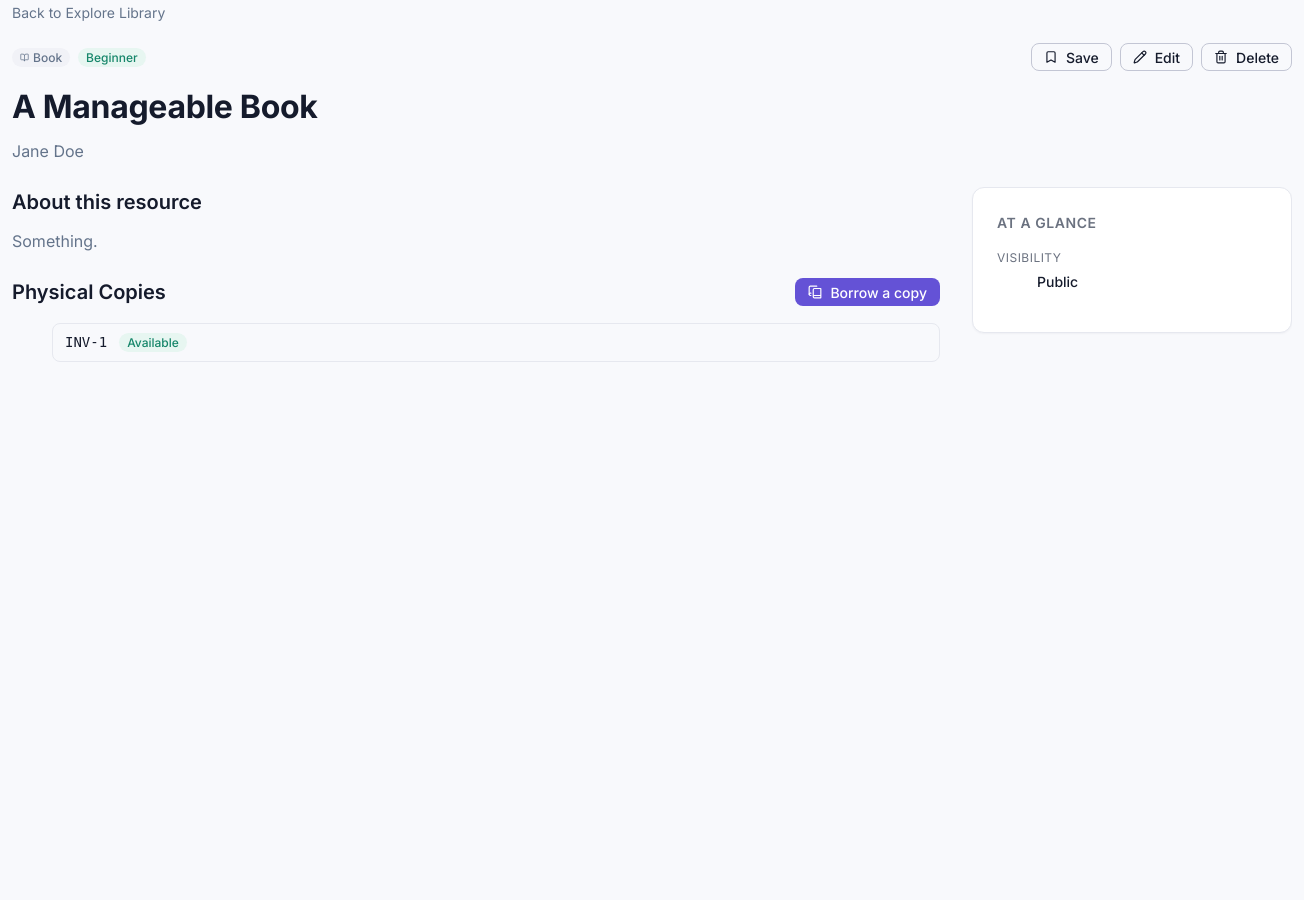
Test: ResourceDetailsPage › physical copies (Task 07) › borrowing a copy shows a success toast
This screenshot has width=1304, height=900.
Click the button "Borrow a copy" at (868, 292), box [795,278,940,306]
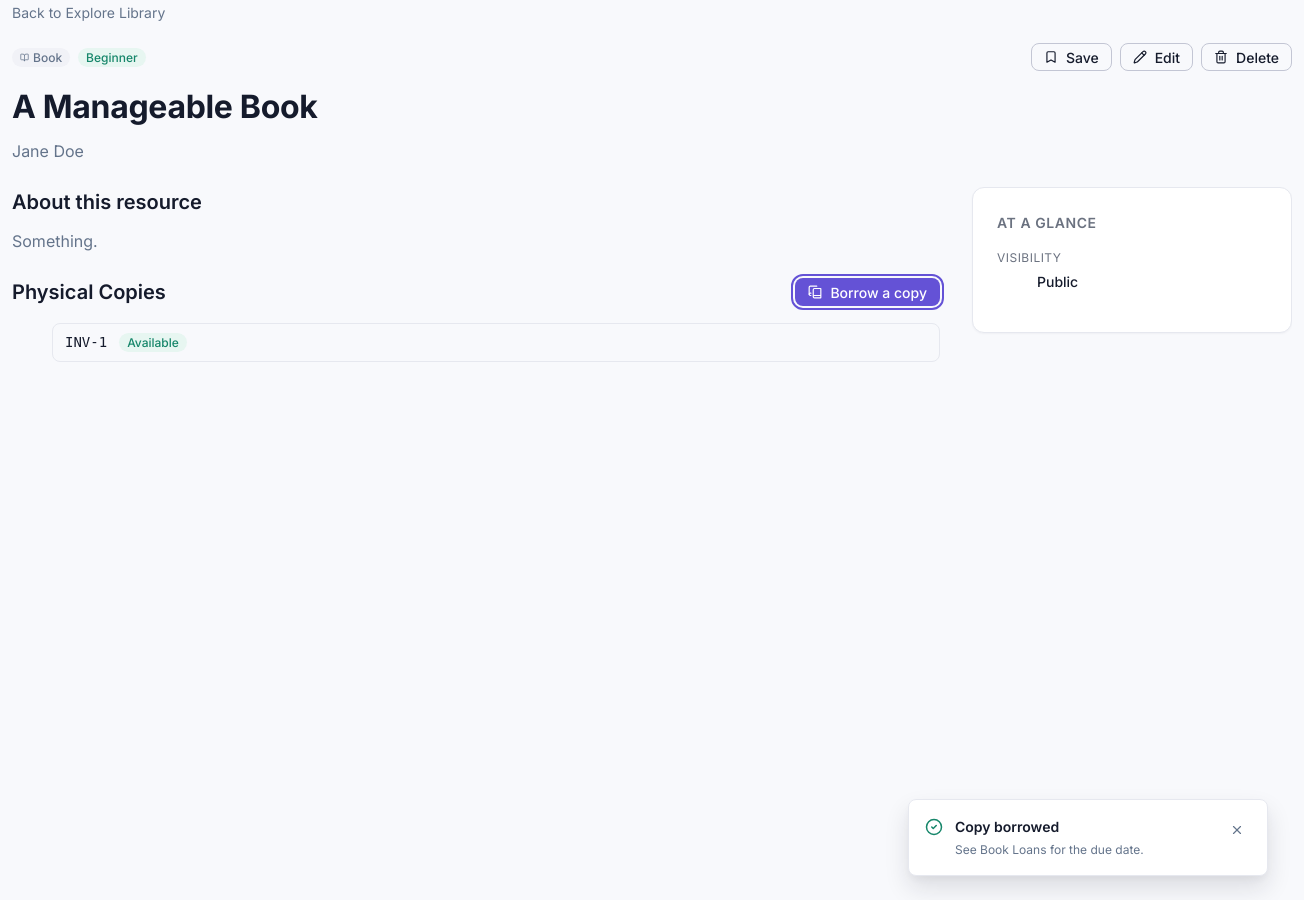
Expected: the text "Copy borrowed" is shown, [955,818,1059,835]
